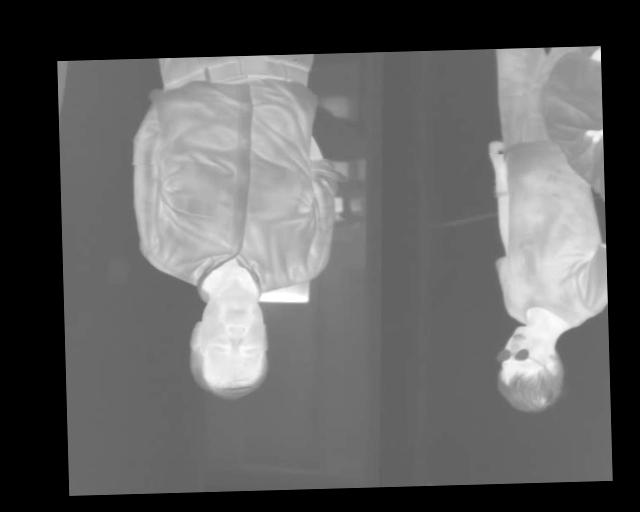face: (187, 285, 271, 402), (496, 323, 565, 416)
